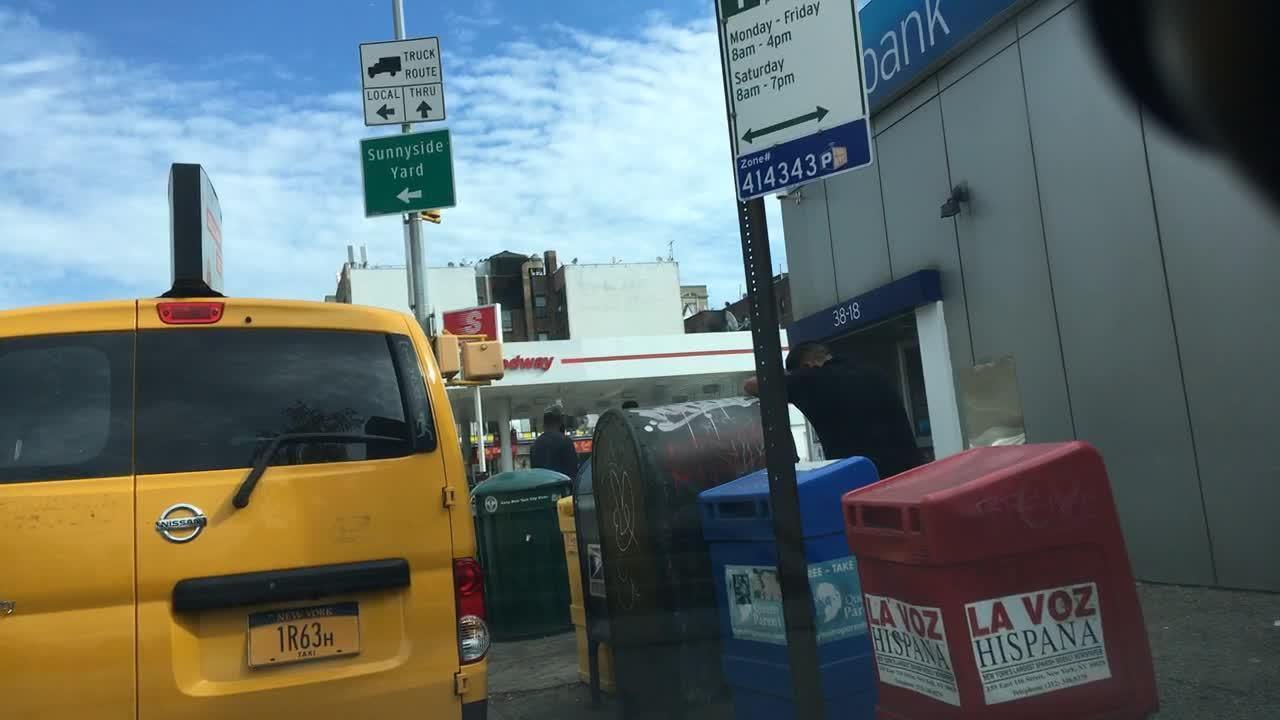Nissan: (149, 494, 218, 554)
